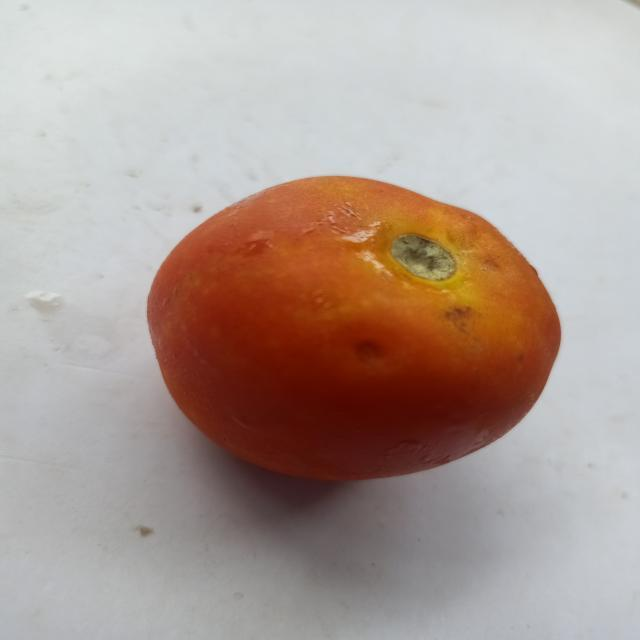Tomato: (133, 154, 571, 503)
